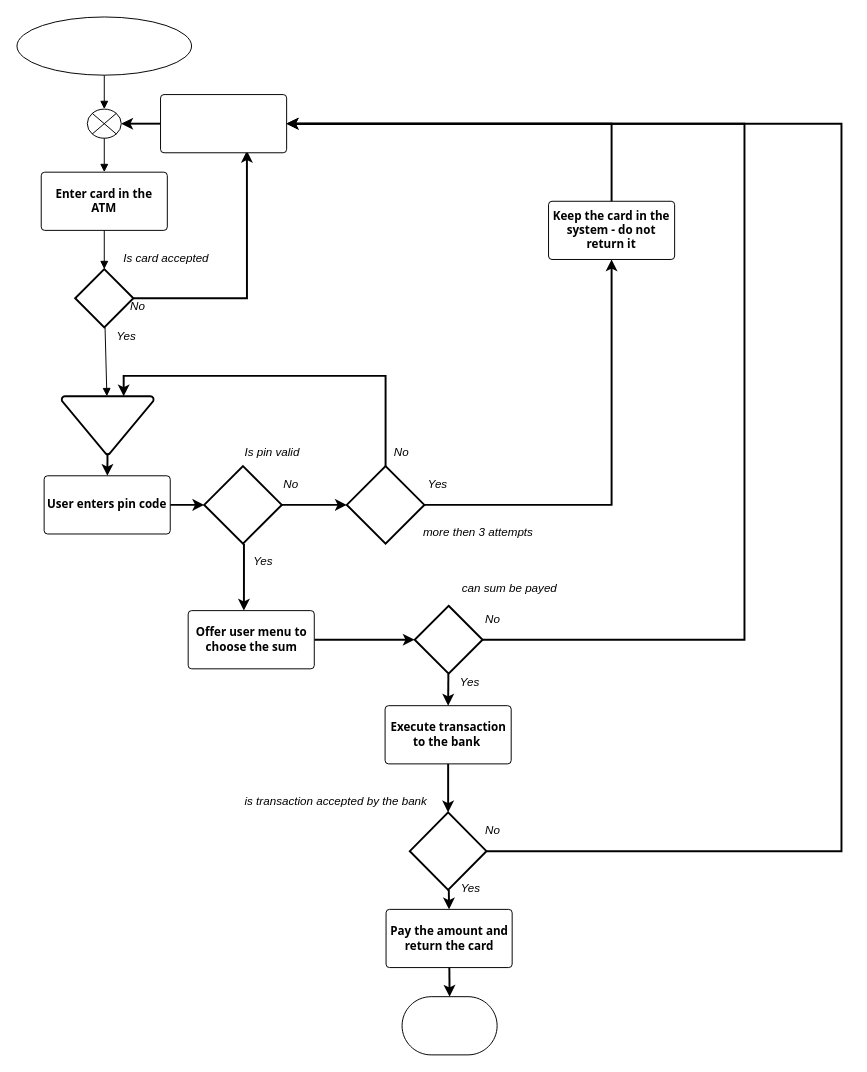
The diagram is 867 pixels wide and 1072 high, and some of its shapes have lost their labels. Here are the shapes that lost their labels. From the top down, the centre of each, then its label:
At pixel 104 45: "user wants to withdraw money".
At pixel 223 123: "Display message and reject transaction".
At pixel 449 1025: "End".
